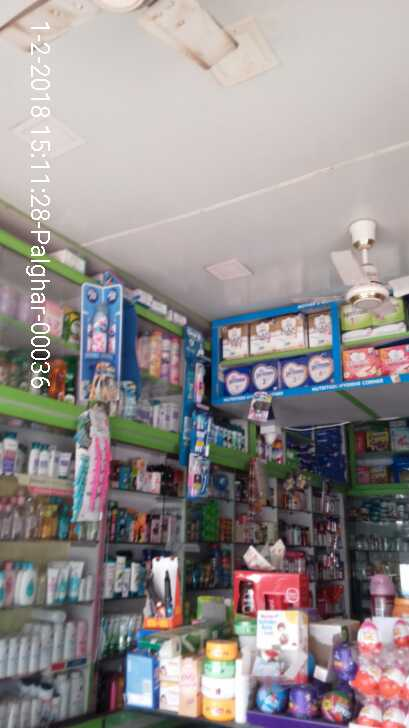home: (88, 297, 113, 352)
